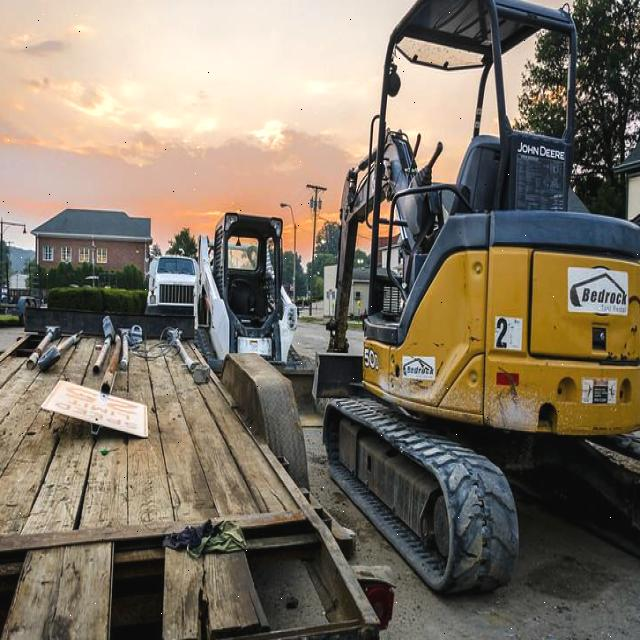Excavator: (314, 0, 640, 604)
